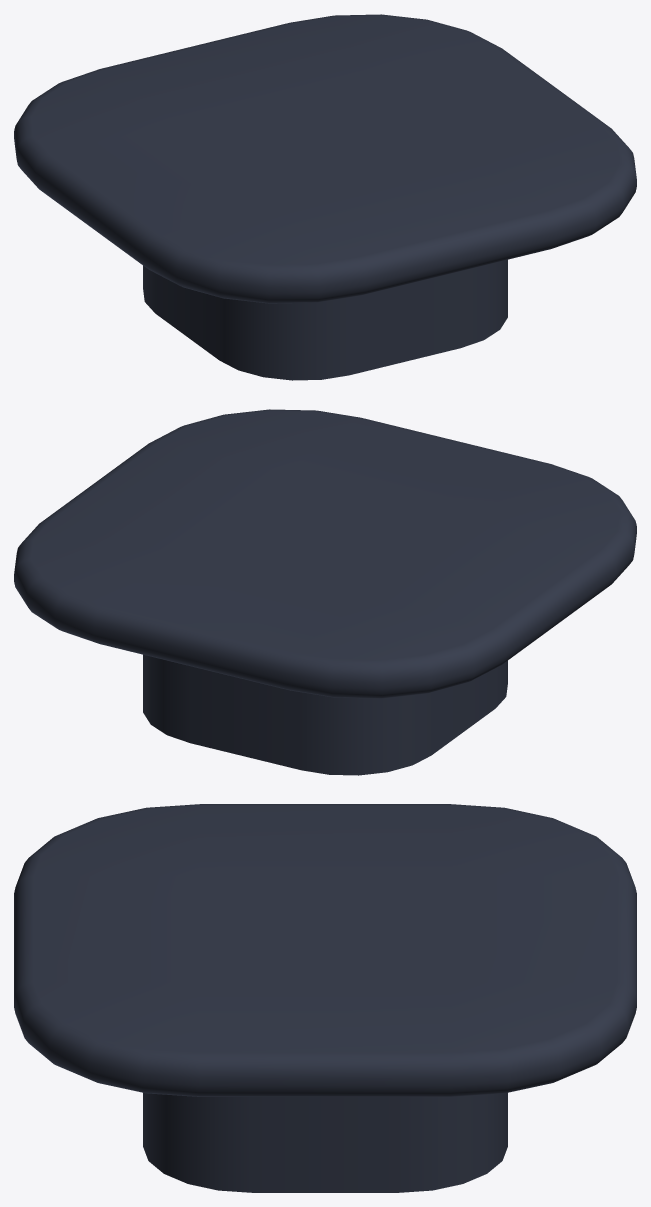
The model's file is CoffeeTable_Sq_Plastic5.glb.
3 views of the same model, one above another, from view 1: azimuth 30°, elevation 25°; view 2: azimuth 150°, elevation 25°; view 3: azimuth 270°, elevation 25° (orthographic). The views are drawn at different scales.
Parts seen in each view (by area): view 1: Cube.007, Cube; view 2: Cube.007, Cube; view 3: Cube.007, Cube.
Boxes of the visible parts, box(x1,y1,x2,y2) form: Cube.007: box(14, 14, 636, 303); Cube: box(143, 259, 507, 380); Cube.007: box(14, 409, 636, 698); Cube: box(143, 654, 507, 775); Cube.007: box(14, 804, 636, 1096); Cube: box(143, 1093, 507, 1192).
Bounding box in the file's own units: 1.53 × 0.5061 × 1.53.
1 material, 1 textured.
